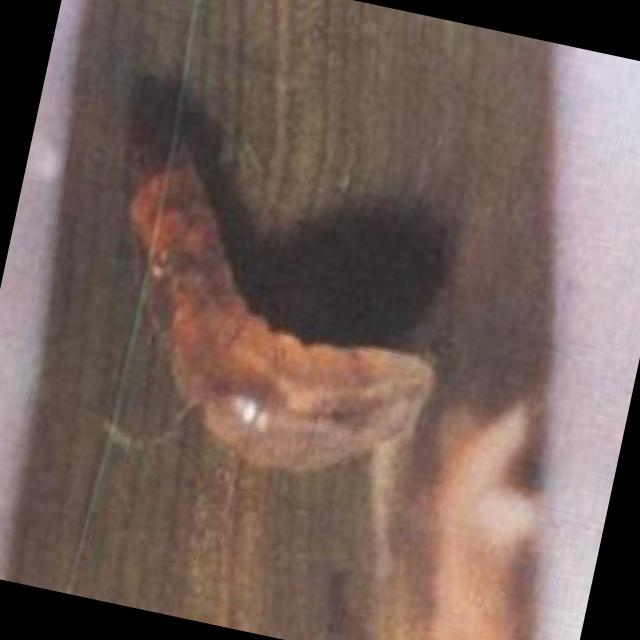whorl-maggot: (115, 154, 440, 485)
